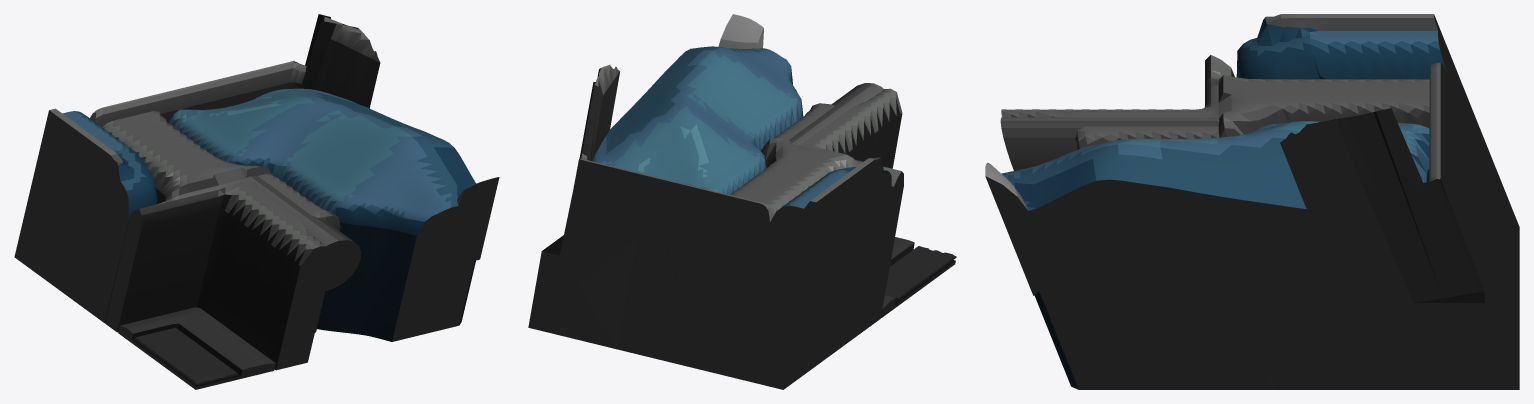
The model's file is fleet_walker_43.glb.
The picture shows the model from 3 angles, left to right: view 1: azimuth 30°, elevation 25°; view 2: azimuth 150°, elevation 25°; view 3: azimuth 270°, elevation 25°; orthographic projection. The views are drawn at different scales.
Visible parts, largest first — view 1: fleet_walker_43; view 2: fleet_walker_43; view 3: fleet_walker_43.
Boxes of the visible parts, bbox=[...] form: fleet_walker_43: bbox=[14, 14, 499, 389]; fleet_walker_43: bbox=[528, 14, 956, 389]; fleet_walker_43: bbox=[985, 14, 1519, 389].
Bounding box in the file's own units: 24 × 18.72 × 33.36.
